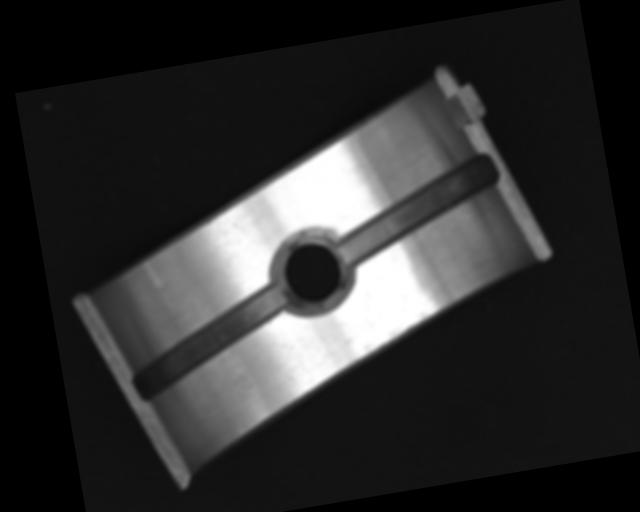gap: (119, 282, 301, 402), (329, 153, 507, 267)
hole: (269, 227, 355, 318)
